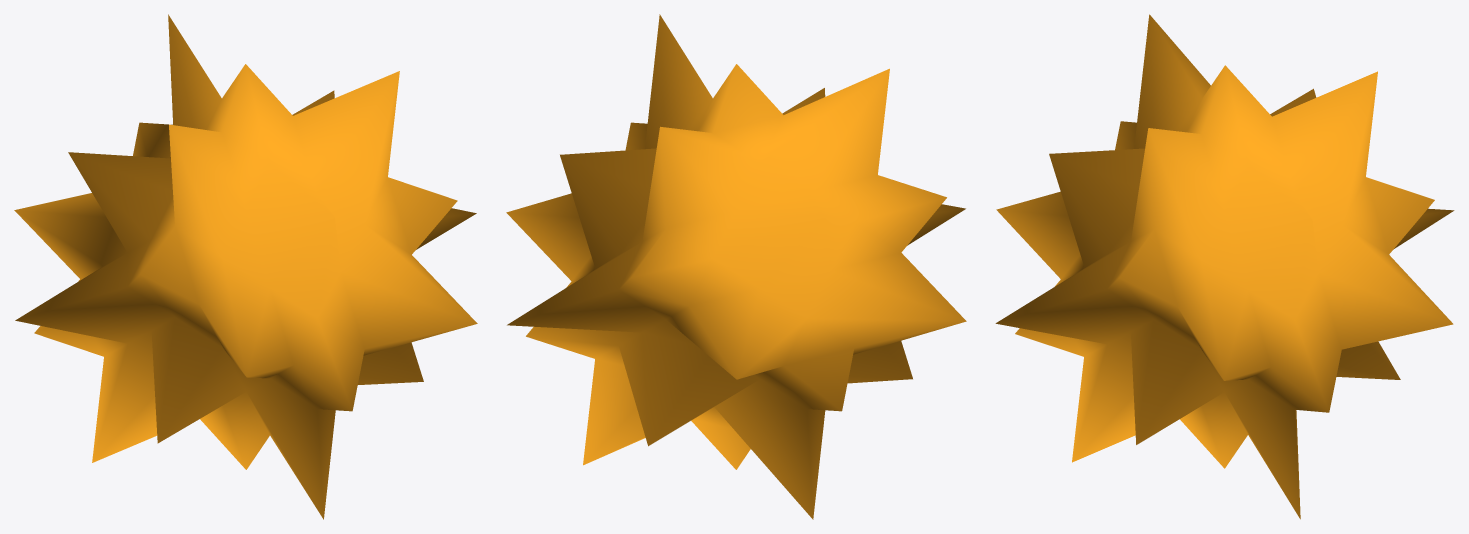
Rendered from pickup 1.fbx.
3 views of the same model, side by side, from view 1: azimuth 30°, elevation 25°; view 2: azimuth 150°, elevation 25°; view 3: azimuth 270°, elevation 25° (orthographic).
Parts seen in each view (by area): view 1: Cube; view 2: Cube; view 3: Cube.
Boxes of the visible parts, x1,y1,x2,y2 form: Cube: (14, 14, 477, 519); Cube: (506, 14, 966, 519); Cube: (995, 14, 1454, 519).
Size of the model in its own units: 640 by 539 by 557.
